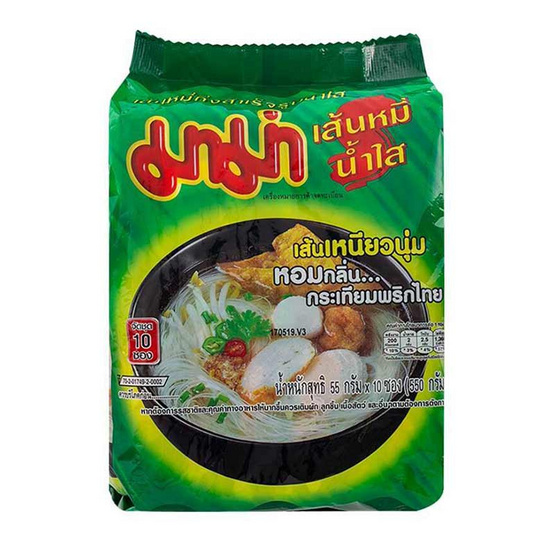Snack: (94, 26, 458, 521)
